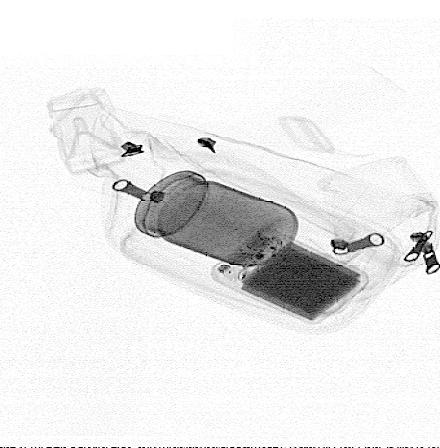Powerbank: (209, 224, 369, 325)
